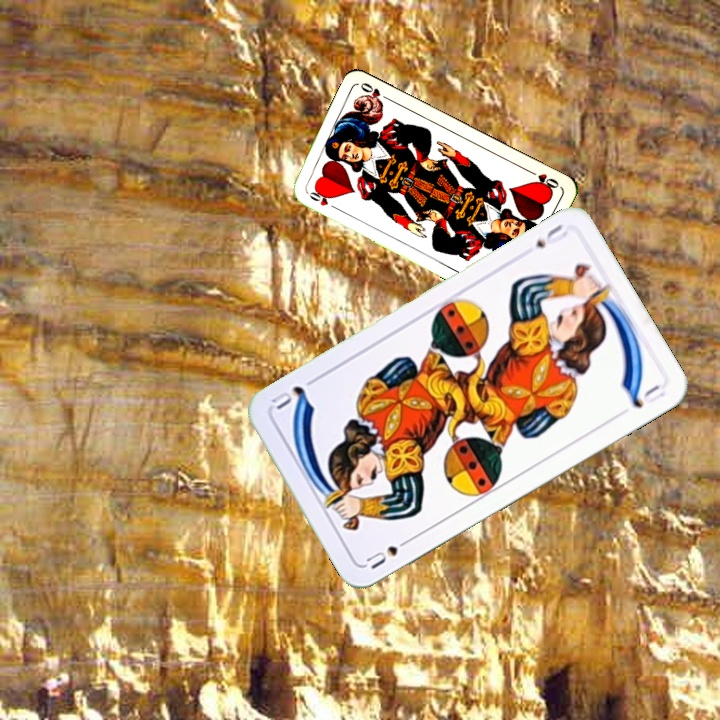HO: (525, 166, 562, 193), (302, 186, 334, 208)
SU: (362, 533, 415, 572), (531, 220, 569, 251)
